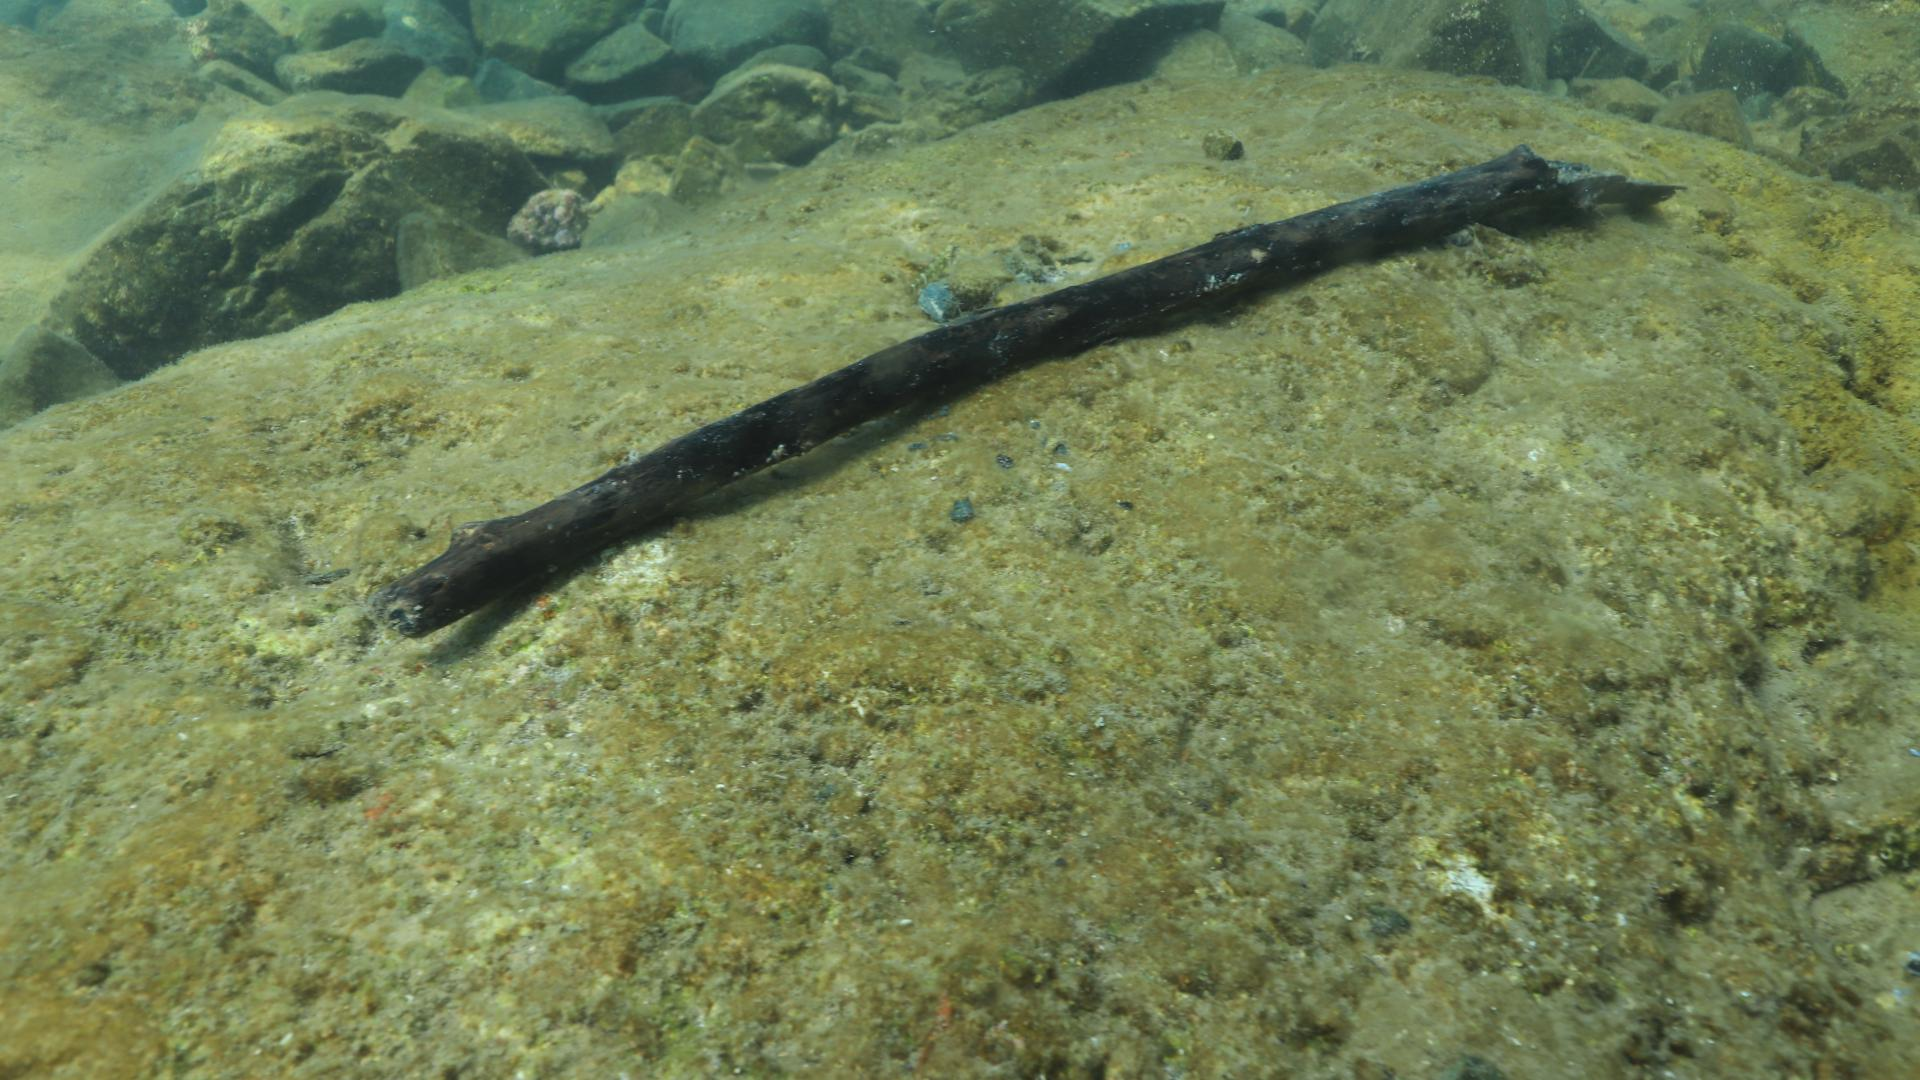wood: (367, 138, 1684, 637)
